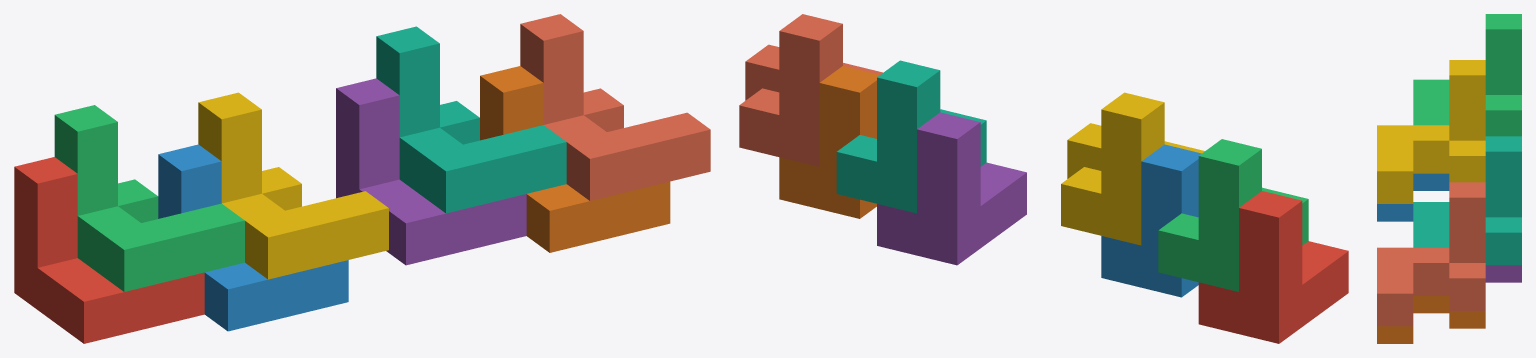
File: tiling.obj
The picture shows the model from 3 angles, left to right: view 1: azimuth 30°, elevation 25°; view 2: azimuth 150°, elevation 25°; view 3: azimuth 270°, elevation 25°; orthographic projection. The views are drawn at different scales.
Visible parts, largest first — view 1: copy_1_domain_3, copy_1_domain_7, copy_1_domain_8, copy_1_domain_4, copy_1_domain_1, copy_1_domain_5, copy_1_domain_2, copy_1_domain_6; view 2: copy_1_domain_1, copy_1_domain_5, copy_1_domain_4, copy_1_domain_8, copy_1_domain_3, copy_1_domain_7, copy_1_domain_6, copy_1_domain_2; view 3: copy_1_domain_8, copy_1_domain_4, copy_1_domain_7, copy_1_domain_3, copy_1_domain_6, copy_1_domain_2, copy_1_domain_5.
Part boxes in pixels (x1=…): copy_1_domain_3: x1=54, y1=105, x2=244, y2=291; copy_1_domain_7: x1=376, y1=26, x2=566, y2=213; copy_1_domain_8: x1=520, y1=14, x2=710, y2=200; copy_1_domain_4: x1=198, y1=92, x2=388, y2=279; copy_1_domain_1: x1=14, y1=157, x2=204, y2=343; copy_1_domain_5: x1=336, y1=78, x2=526, y2=265; copy_1_domain_2: x1=158, y1=144, x2=348, y2=331; copy_1_domain_6: x1=480, y1=66, x2=670, y2=252; copy_1_domain_1: x1=1198, y1=191, x2=1348, y2=343; copy_1_domain_5: x1=877, y1=112, x2=1026, y2=265; copy_1_domain_4: x1=1061, y1=92, x2=1204, y2=245; copy_1_domain_8: x1=739, y1=14, x2=882, y2=166; copy_1_domain_3: x1=1158, y1=139, x2=1308, y2=291; copy_1_domain_7: x1=836, y1=60, x2=986, y2=213; copy_1_domain_6: x1=779, y1=66, x2=879, y2=218; copy_1_domain_2: x1=1101, y1=144, x2=1201, y2=297; copy_1_domain_8: x1=1377, y1=182, x2=1485, y2=326; copy_1_domain_4: x1=1377, y1=60, x2=1485, y2=203; copy_1_domain_7: x1=1413, y1=136, x2=1521, y2=265; copy_1_domain_3: x1=1413, y1=14, x2=1521, y2=136; copy_1_domain_6: x1=1377, y1=296, x2=1485, y2=343; copy_1_domain_2: x1=1377, y1=173, x2=1449, y2=221; copy_1_domain_5: x1=1485, y1=265, x2=1521, y2=282.
Bounding box in the file's own units: 15 × 4 × 4.
